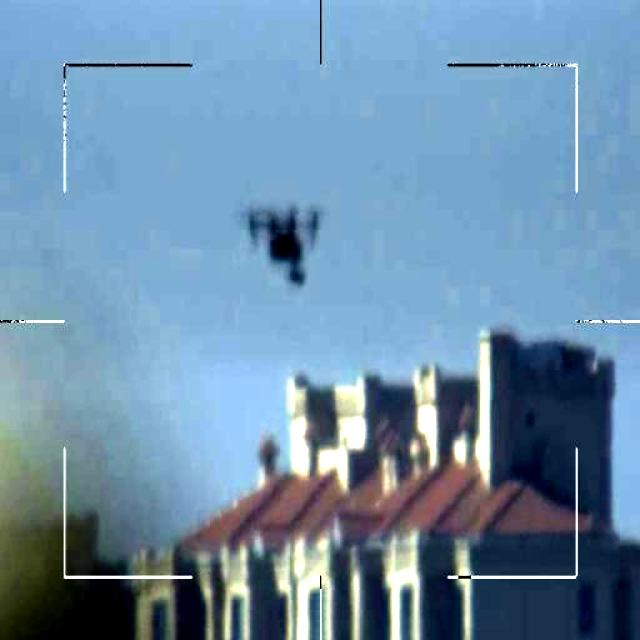bird: (242, 195, 322, 282)
